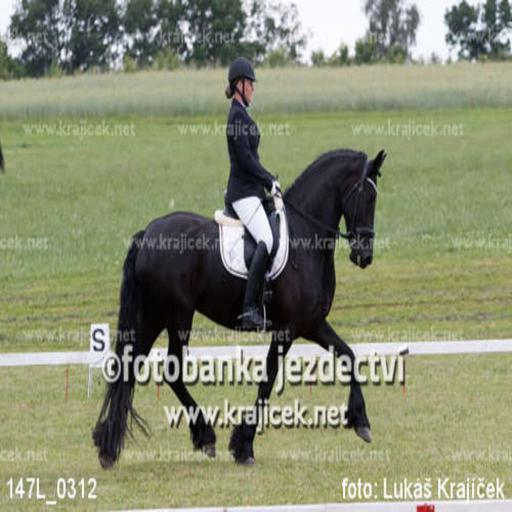horse: (90, 148, 388, 472)
